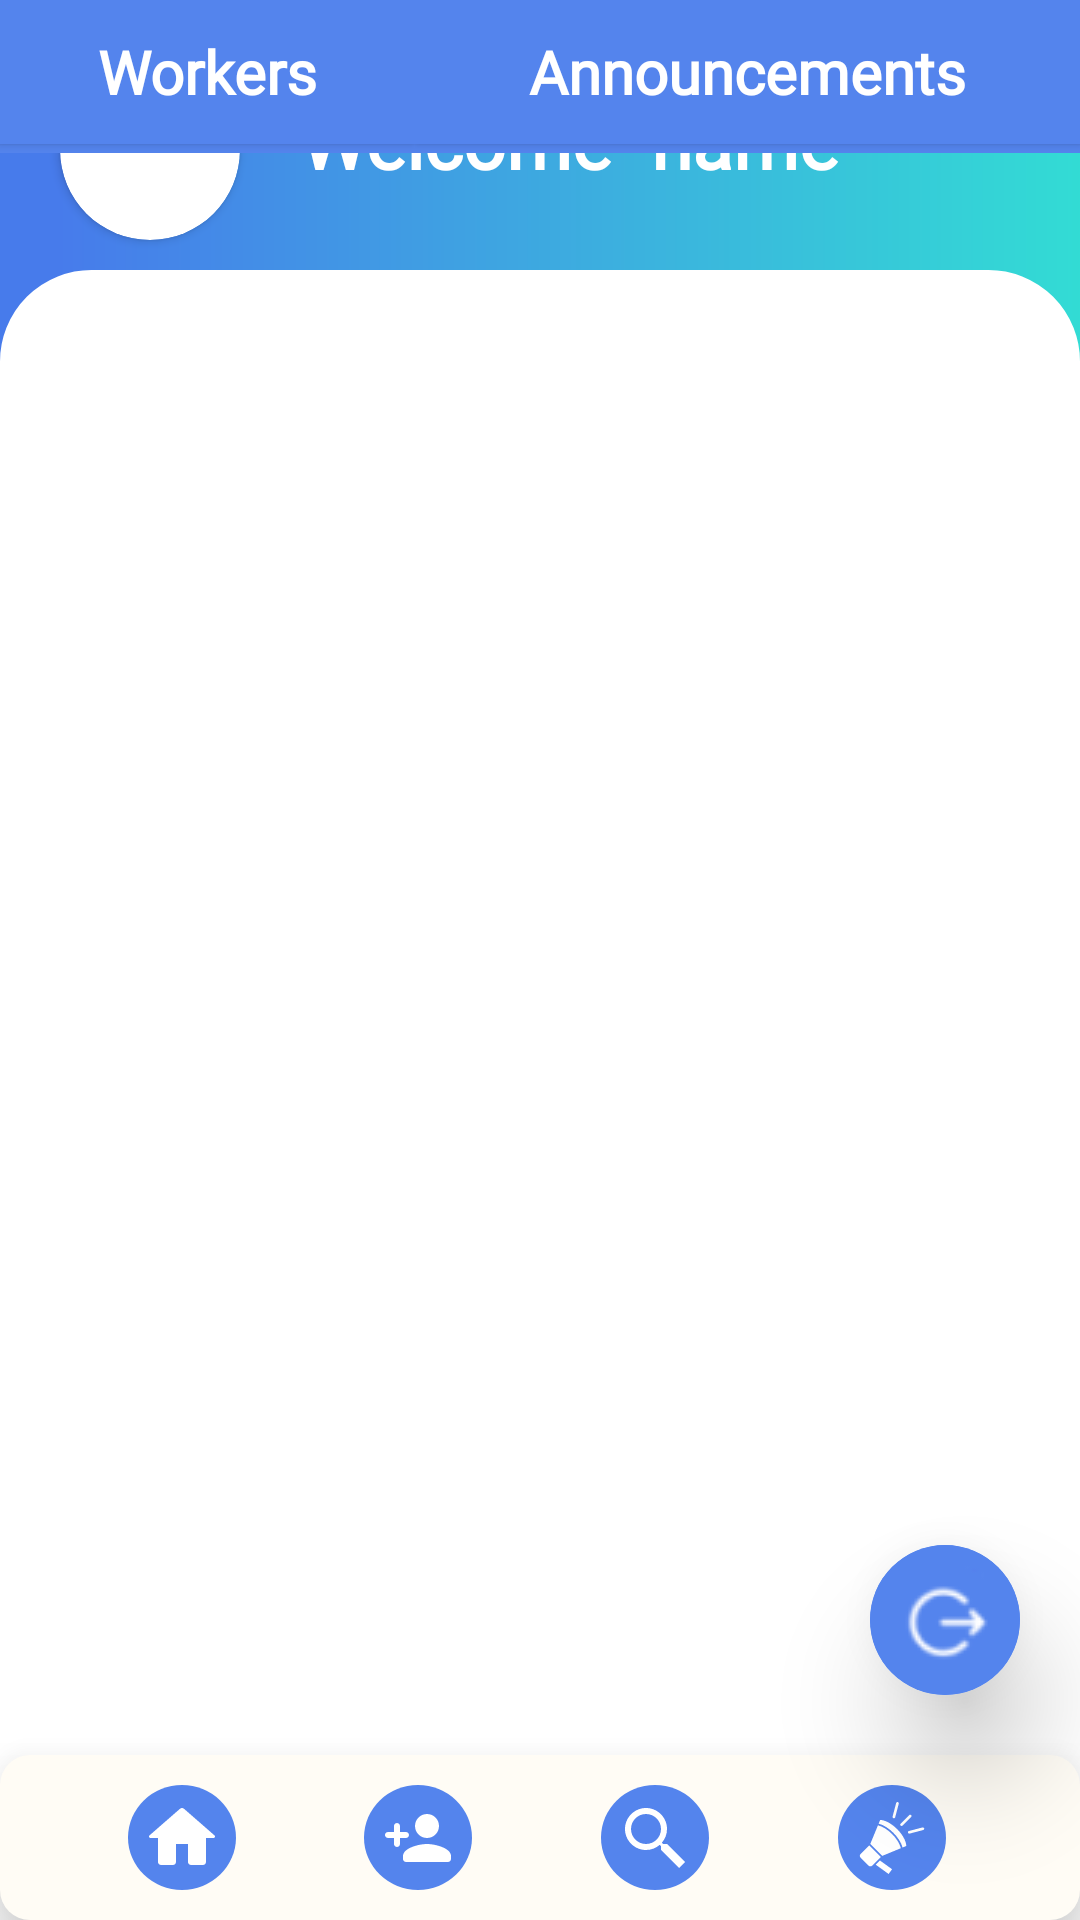

Icon bounding boxes for this 1080 × 1920 phone screenshot, format rect(x1, y1, x2, y2):
add person: rect(364, 1785, 472, 1890)
announcement: rect(838, 1785, 946, 1890)
home: rect(128, 1785, 236, 1890)
search: rect(601, 1785, 709, 1890)
